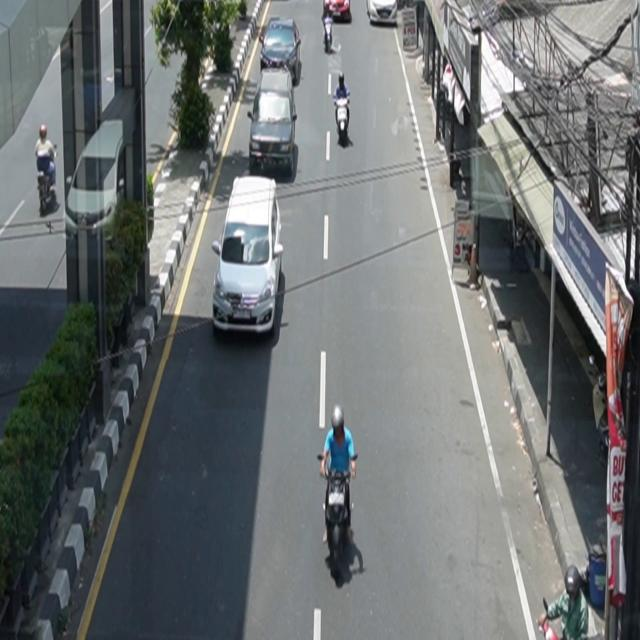car: (213, 176, 285, 337), (248, 68, 298, 180), (261, 18, 303, 86), (366, 1, 398, 26)
